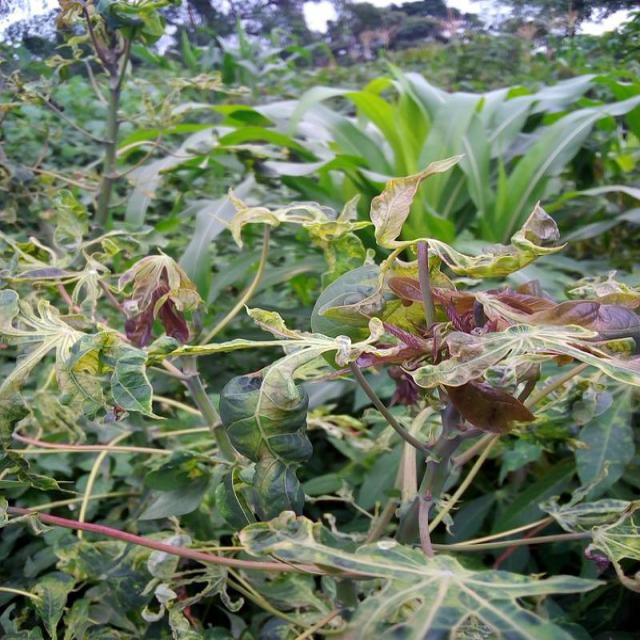cassava leaf: (217, 366, 313, 523)
